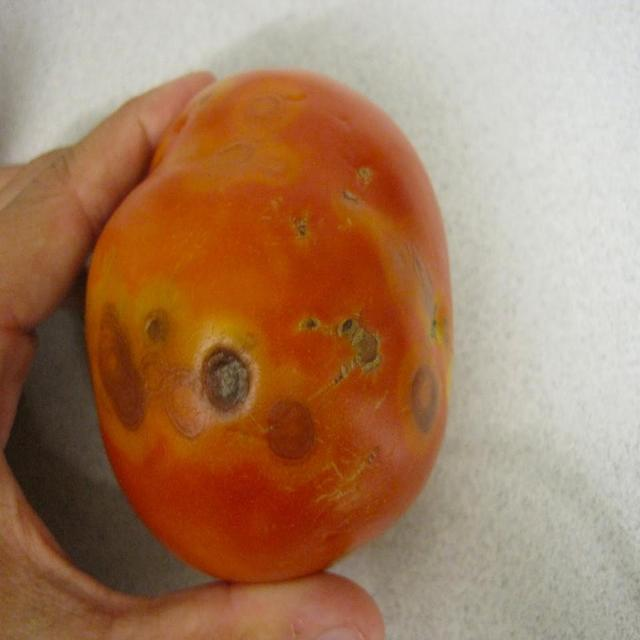Spotted wilt Virus Fruit: (71, 24, 185, 103)
